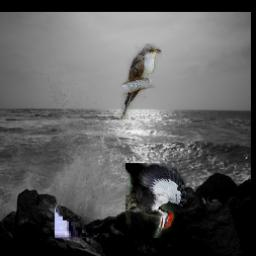Crow: (55, 78, 113, 239)
Cuckoo: (119, 44, 161, 121)
Woodpecker: (124, 163, 186, 238)
